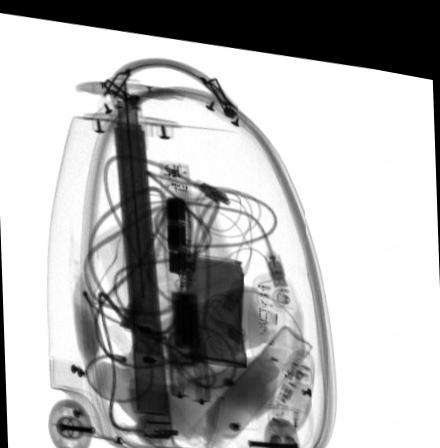Baton: (158, 153, 211, 397)
